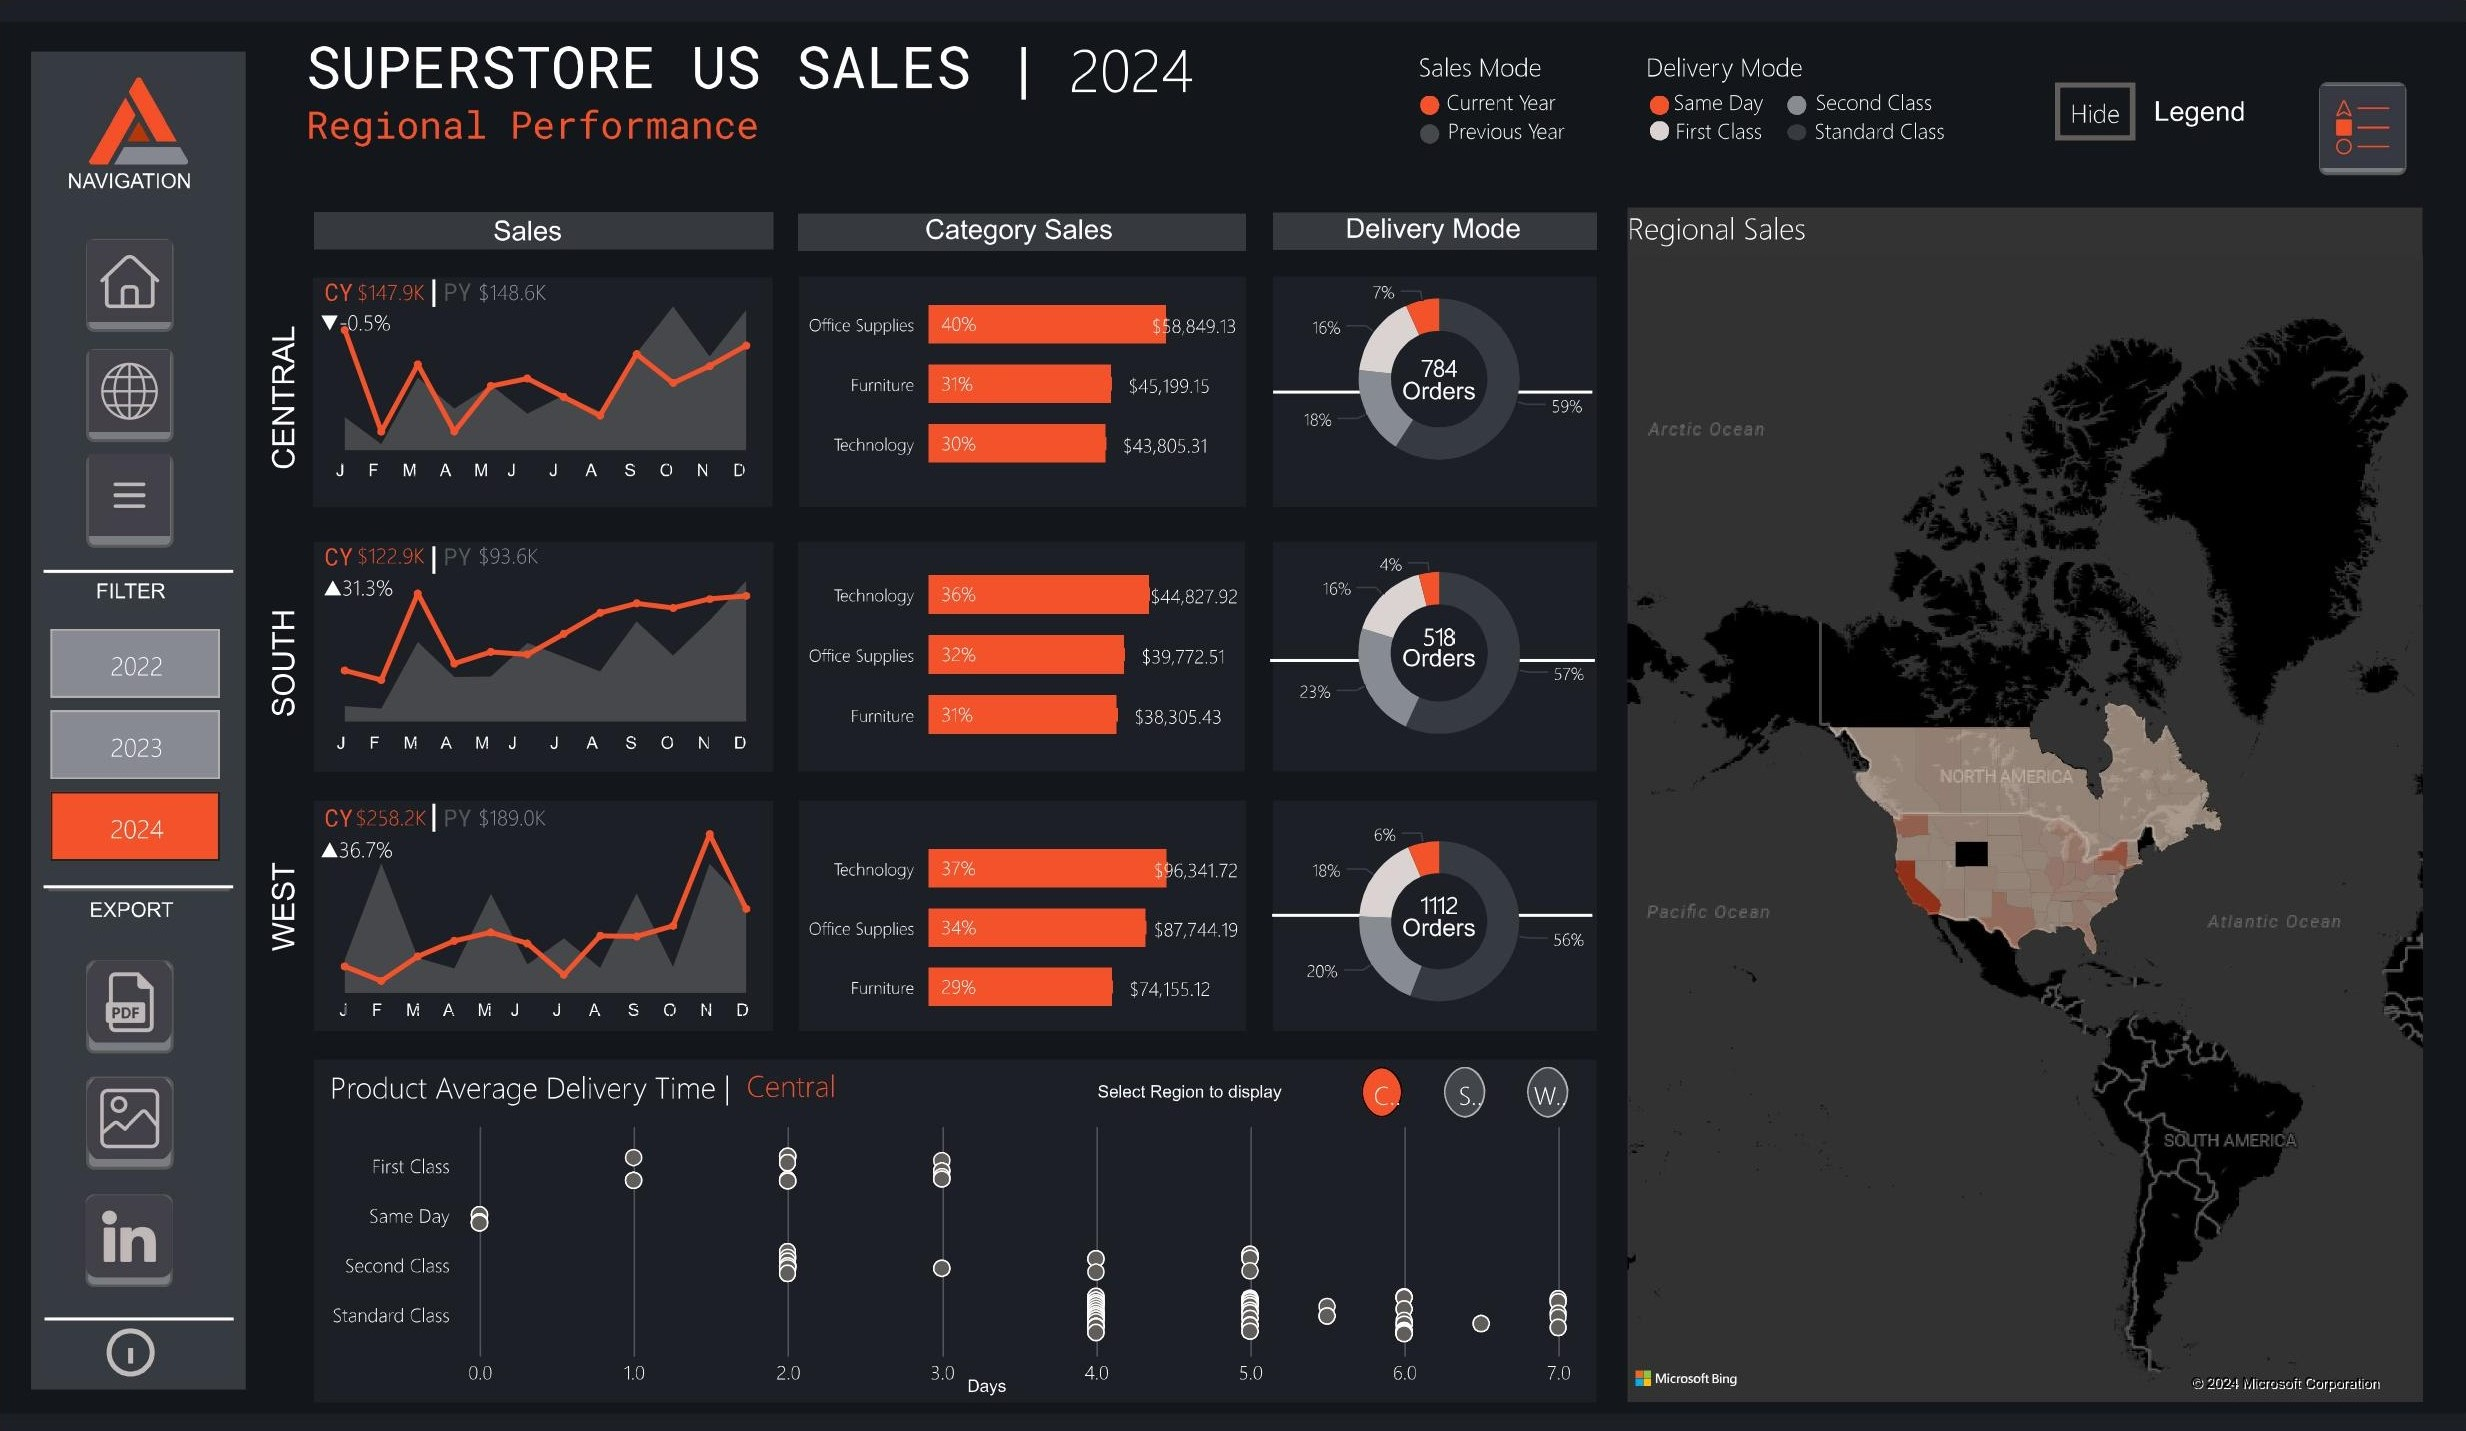

The page's visual inventory and layout, read from the dashboard file:
{"tool":"powerbi","page":{"name":"Regional Performance","canvas":[1549,899],"ordinal":1},"visuals":[{"type":"barChart","fields":{"Category":["Orders.Category"],"Y":["Sum(Orders.Sales)"]},"box":[500,163.3,283.3,148.3],"z":0},{"type":"barChart","fields":{"Category":["Orders.Category"],"Y":["Sum(Orders.Sales)"]},"box":[500,504,284,148],"z":1000},{"type":"barChart","fields":{"Category":["Orders.Category"],"Y":["Sum(Orders.Sales)"]},"box":[500,331.9,283.8,150],"z":2000},{"type":"lineChart","title":"Sales","fields":{"Category":["Date Table.Month"],"Y":["Sum(Orders.Sales)"],"Y2":["Orders.PY Sales"]},"box":[202,164,280,148],"z":3000},{"type":"areaChart","title":"Sales","fields":{"Category":["Date Table.Month"],"Y":["Sum(Orders.Sales)"],"Y2":["Orders.PY Sales"]},"box":[201.9,331.9,280,150],"z":4000},{"type":"donutChart","fields":{"Category":["Orders.Ship Mode"],"Y":["CountNonNull(Orders.Ship Mode)"]},"box":[801.9,163.1,200,148.8],"z":5000},{"type":"donutChart","fields":{"Category":["Orders.Ship Mode"],"Y":["CountNonNull(Orders.Ship Mode)"]},"box":[802,503,200,148],"z":6000},{"type":"donutChart","fields":{"Category":["Orders.Ship Mode"],"Y":["CountNonNull(Orders.Ship Mode)"]},"box":[801.9,334,200,150],"z":7000},{"type":"areaChart","title":"Sales","fields":{"Category":["Date Table.Month"],"Y":["Sum(Orders.Sales)"],"Y2":["Orders.PY Sales"]},"box":[201.9,503.8,280,148.1],"z":8000},{"type":"clusteredBarChart","title":"Product Average Delivery Time  |","fields":{"Category":["Orders.Ship Mode"],"Y":["Avg(Orders.Delivery Days)"],"Series":["Orders.Product Name"]},"box":[201.9,668.1,801.9,210],"z":9000},{"type":"cardVisual","fields":{"Data":["Sum(Orders.Sales)"]},"box":[224,166,58.8,26.2],"z":10000},{"type":"cardVisual","fields":{"Data":["Orders.PY Sales"]},"box":[300,166,61.2,26.2],"z":11000},{"type":"cardVisual","fields":{"Data":["Orders.Sales KPI"]},"box":[201.2,185,60,25],"z":12000},{"type":"cardVisual","fields":{"Data":["Sum(Orders.Sales)"]},"box":[223.8,331,55,27.5],"z":13000},{"type":"cardVisual","fields":{"Data":["Orders.PY Sales"]},"box":[300,331,55.6,27],"z":14000},{"type":"cardVisual","fields":{"Data":["Orders.Sales KPI"]},"box":[202.5,350,60,26.2],"z":15000},{"type":"cardVisual","fields":{"Data":["Sum(Orders.Sales)"]},"box":[222.5,495,61.2,26.2],"z":16000},{"type":"cardVisual","fields":{"Data":["Orders.PY Sales"]},"box":[300,495,55.7,27],"z":17000},{"type":"cardVisual","fields":{"Data":["Orders.Sales KPI"]},"box":[201.2,513.8,60,26.2],"z":18000},{"type":"card","fields":{"Values":["Max(Orders.Year)"]},"box":[634,18,150,50],"z":19000},{"type":"advancedSlicerVisual","fields":{"Values":["Date Table.Year"]},"box":[32,394,106,146],"z":20000},{"type":"advancedSlicerVisual","fields":{"Values":["Orders.Region"]},"box":[853.3,668.3,131.7,31.7],"z":21000},{"type":"cardVisual","fields":{"Data":["Min(Orders.Region)"]},"box":[468,656,58,38],"z":22000},{"type":"filledMap","title":"Regional Sales","fields":{"Category":["Orders.Country/Region","Orders.State/Province"]},"box":[1020,130,498,748],"z":23000},{"type":"actionButton","box":[1445,50,60,55],"z":25000},{"type":"actionButton","box":[61.7,826.7,50,40],"z":33000},{"type":"actionButton","box":[53.3,676.7,58.3,53.3],"z":34000},{"type":"actionButton","box":[53.3,145,58.3,53.3],"z":35000},{"type":"actionButton","box":[53.3,211.7,58.3,53.3],"z":36000},{"type":"actionButton","box":[53.3,603.3,58.3,53.3],"z":37000},{"type":"cardVisual","fields":{"Data":["Orders.Orders Count"]},"box":[871.7,211.7,60,25],"z":38000},{"type":"cardVisual","fields":{"Data":["Orders.Orders Count"]},"box":[871.7,548.3,60,25],"z":39000},{"type":"cardVisual","fields":{"Data":["Orders.Orders Count"]},"box":[871.7,380,60,25],"z":40000},{"type":"actionButton","box":[51.7,281.7,58.3,55],"z":41000},{"type":"actionButton","box":[54,749,56,56],"z":42000}]}

Visuals, with their boxes in screenshot pixels (x1, y1, x2, y2), scaled from the page's 1549x899 canvas onto the 2466x1431 screenshot:
barChart - Orders.Category x Sum(Orders.Sales): x1=796, y1=260, x2=1247, y2=496
barChart - Orders.Category x Sum(Orders.Sales): x1=796, y1=802, x2=1248, y2=1038
barChart - Orders.Category x Sum(Orders.Sales): x1=796, y1=528, x2=1248, y2=767
"Sales" lineChart: x1=322, y1=261, x2=767, y2=497
"Sales" areaChart: x1=321, y1=528, x2=767, y2=767
donutChart - Orders.Ship Mode x CountNonNull(Orders.Ship Mode): x1=1277, y1=260, x2=1595, y2=496
donutChart - Orders.Ship Mode x CountNonNull(Orders.Ship Mode): x1=1277, y1=801, x2=1595, y2=1036
donutChart - Orders.Ship Mode x CountNonNull(Orders.Ship Mode): x1=1277, y1=532, x2=1595, y2=770
"Sales" areaChart: x1=321, y1=802, x2=767, y2=1038
"Product Average Delivery Time  |" clusteredBarChart: x1=321, y1=1063, x2=1598, y2=1398
cardVisual - Sum(Orders.Sales): x1=357, y1=264, x2=450, y2=306
cardVisual - Orders.PY Sales: x1=478, y1=264, x2=575, y2=306
cardVisual - Orders.Sales KPI: x1=320, y1=294, x2=416, y2=334
cardVisual - Sum(Orders.Sales): x1=356, y1=527, x2=444, y2=571
cardVisual - Orders.PY Sales: x1=478, y1=527, x2=566, y2=570
cardVisual - Orders.Sales KPI: x1=322, y1=557, x2=418, y2=599
cardVisual - Sum(Orders.Sales): x1=354, y1=788, x2=452, y2=830
cardVisual - Orders.PY Sales: x1=478, y1=788, x2=566, y2=831
cardVisual - Orders.Sales KPI: x1=320, y1=818, x2=416, y2=860
card - Max(Orders.Year): x1=1009, y1=29, x2=1248, y2=108
advancedSlicerVisual - Date Table.Year: x1=51, y1=627, x2=220, y2=860
advancedSlicerVisual - Orders.Region: x1=1358, y1=1064, x2=1568, y2=1114
cardVisual - Min(Orders.Region): x1=745, y1=1044, x2=837, y2=1105
"Regional Sales" filledMap: x1=1624, y1=207, x2=2417, y2=1398
actionButton: x1=2300, y1=80, x2=2396, y2=167
actionButton: x1=98, y1=1316, x2=178, y2=1380
actionButton: x1=85, y1=1077, x2=178, y2=1162
actionButton: x1=85, y1=231, x2=178, y2=316
actionButton: x1=85, y1=337, x2=178, y2=422
actionButton: x1=85, y1=960, x2=178, y2=1045
cardVisual - Orders.Orders Count: x1=1388, y1=337, x2=1483, y2=377
cardVisual - Orders.Orders Count: x1=1388, y1=873, x2=1483, y2=913
cardVisual - Orders.Orders Count: x1=1388, y1=605, x2=1483, y2=645
actionButton: x1=82, y1=448, x2=175, y2=536
actionButton: x1=86, y1=1192, x2=175, y2=1281
